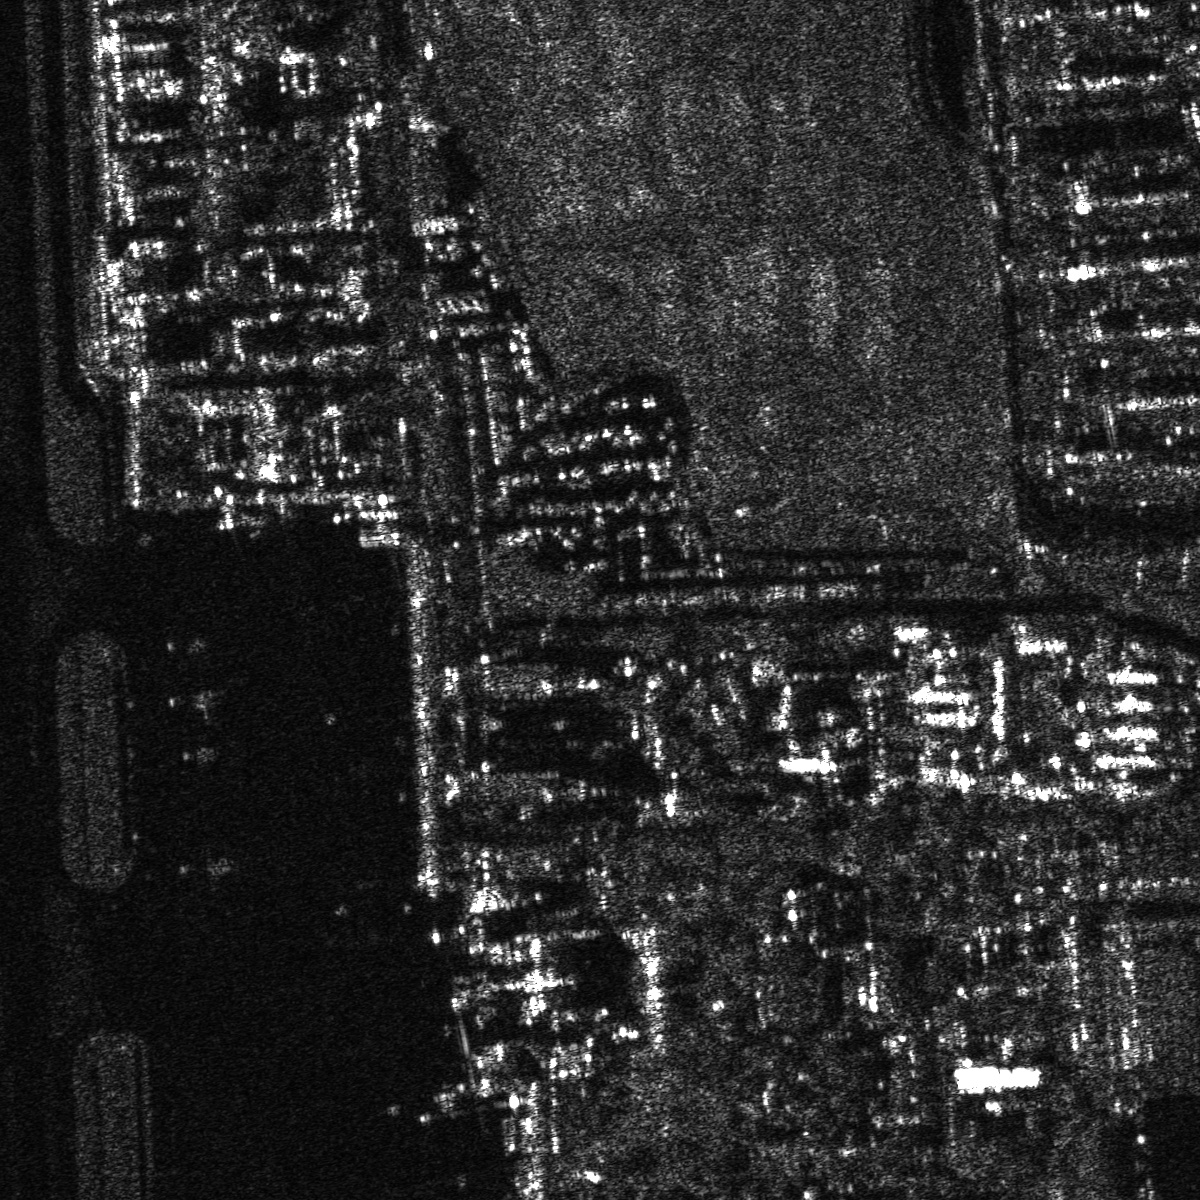ARJ21: (160, 678, 227, 722), (171, 733, 227, 773)
other: (149, 623, 216, 665), (177, 843, 240, 885)
